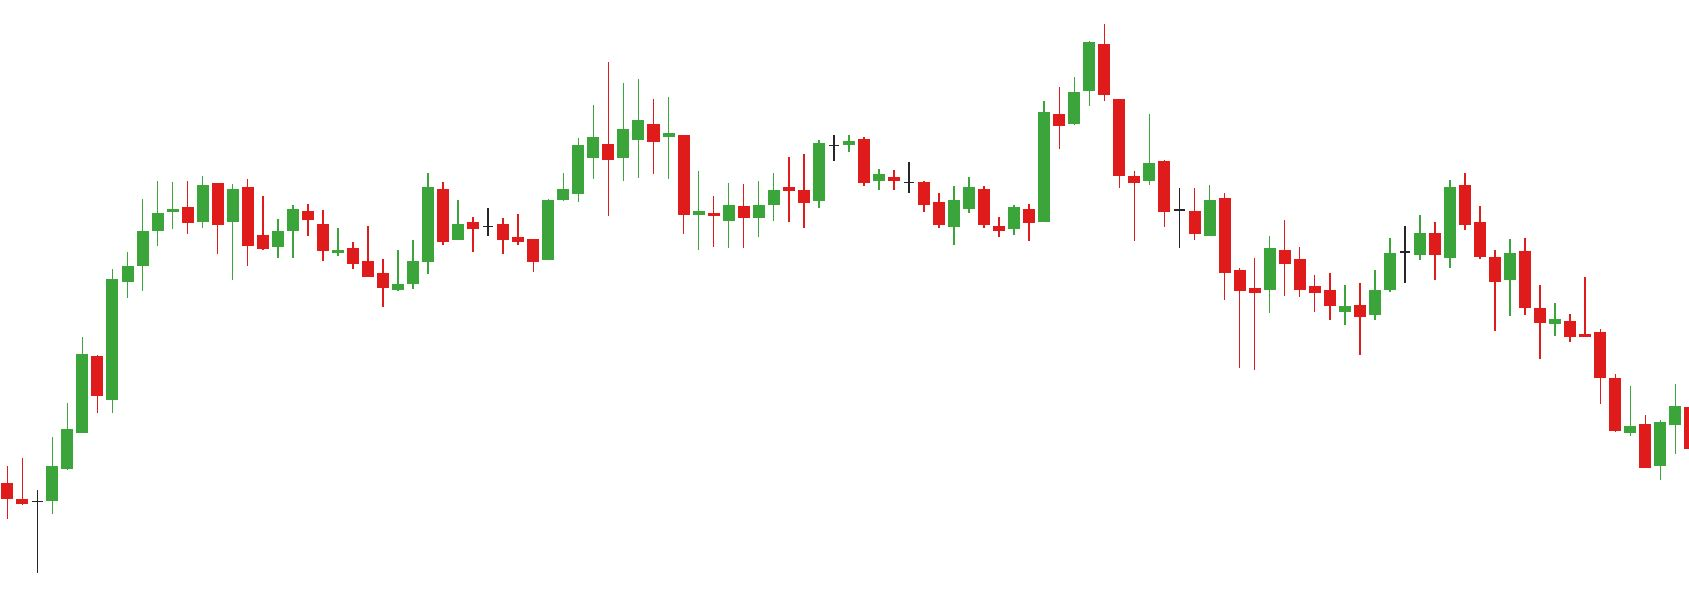sell: (315, 174, 449, 245)
